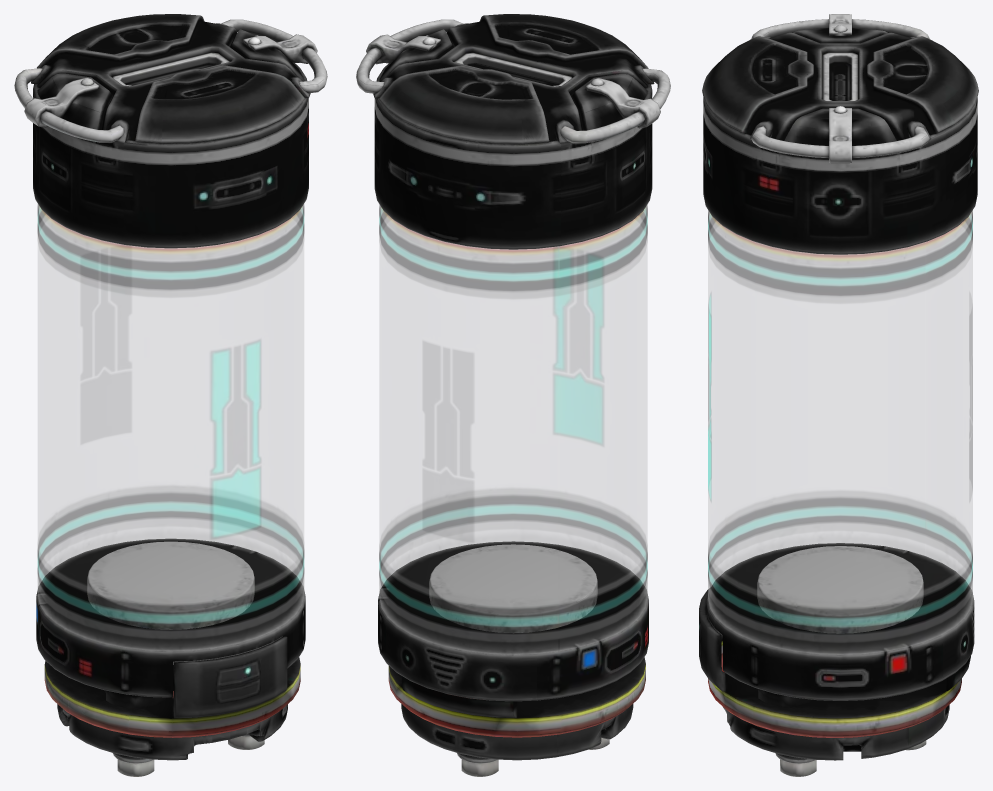
3 views of the same model, side by side, from view 1: azimuth 30°, elevation 25°; view 2: azimuth 150°, elevation 25°; view 3: azimuth 270°, elevation 25° (orthographic).
Visible parts, largest first — view 1: Object_5, Object_2, Object_3, Object_4; view 2: Object_5, Object_2, Object_3, Object_4; view 3: Object_5, Object_2, Object_3, Object_4.
Part boxes in pixels (x1,y1,x2,y2): Object_5: [37, 204, 304, 664]; Object_2: [14, 14, 327, 718]; Object_3: [44, 637, 300, 776]; Object_4: [87, 541, 254, 629]; Object_5: [379, 204, 647, 654]; Object_2: [356, 14, 670, 701]; Object_3: [388, 657, 645, 776]; Object_4: [429, 544, 597, 633]; Object_5: [708, 210, 972, 654]; Object_2: [699, 14, 978, 700]; Object_3: [701, 630, 970, 776]; Object_4: [757, 546, 923, 633].
Size of the model in its own units: 544 by 1253 by 469.
Materials: 4 (4 with a texture image).
